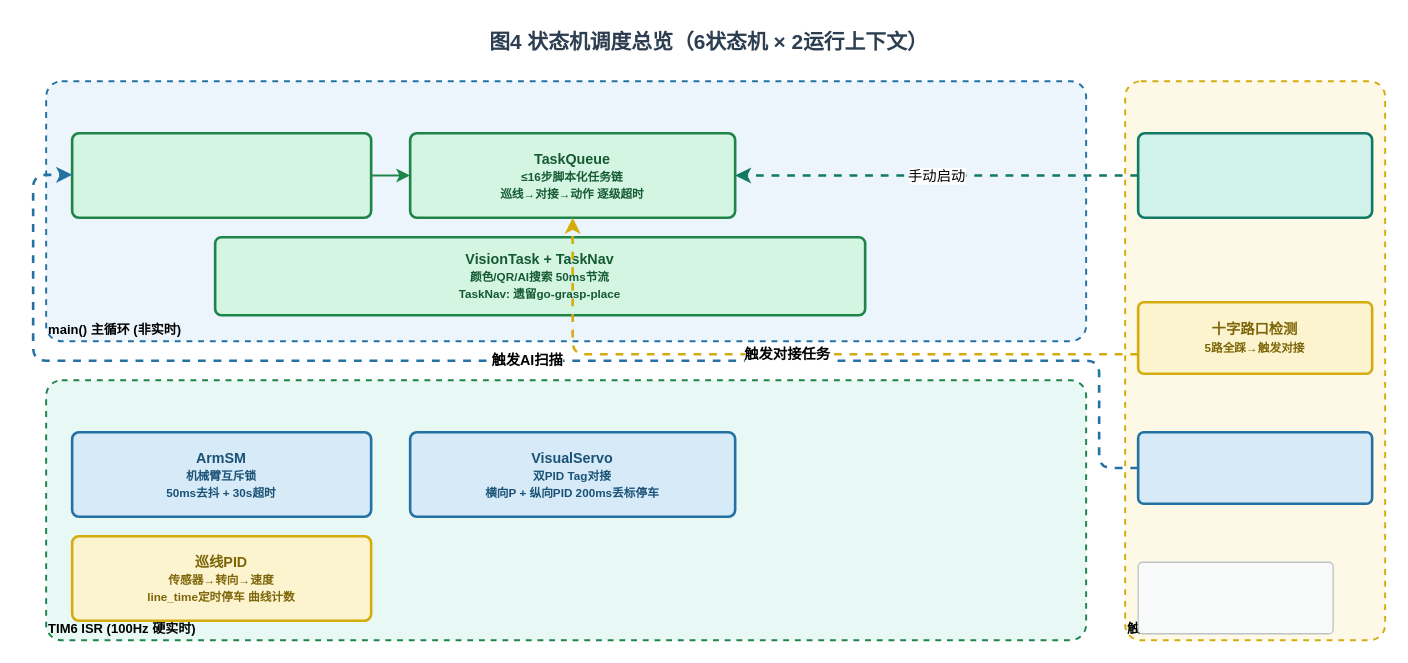
The diagram is 1408 pixels wide and 663 high, and some of its shapes have lost their labels. Each missing label, with the centre of its shape:
"15s周期定时 自动冷却触发AI" goes at point 1254,467.
"AI Pipeline Phase 0→1→2→3 自动周期触发 15s冷却" goes at point 221,174.
"UART5 串口命令 50+ 调试命令 手动触发各任务" goes at point 1254,174.
"图例 蓝色背景: main()软实时 绿色背景: TIM6硬实时 虚线: 事件触发" goes at point 1235,597.
